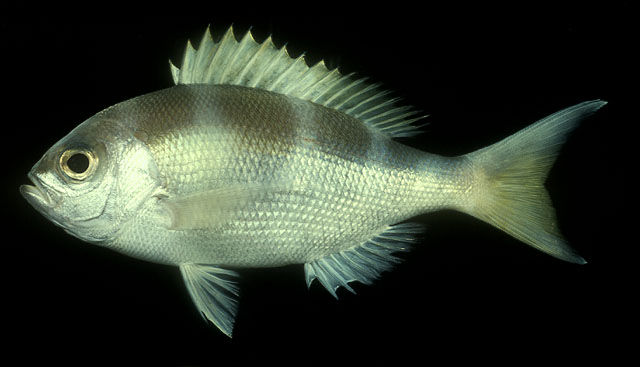fish: (20, 24, 609, 340)
